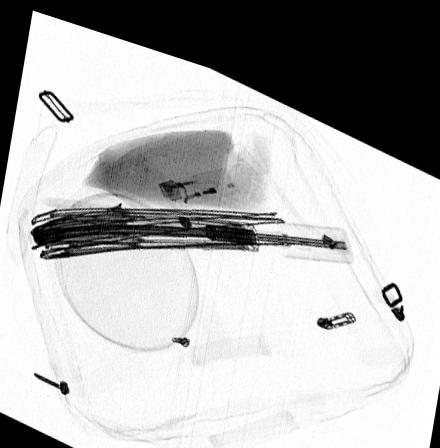Lighter: (156, 152, 240, 197)
